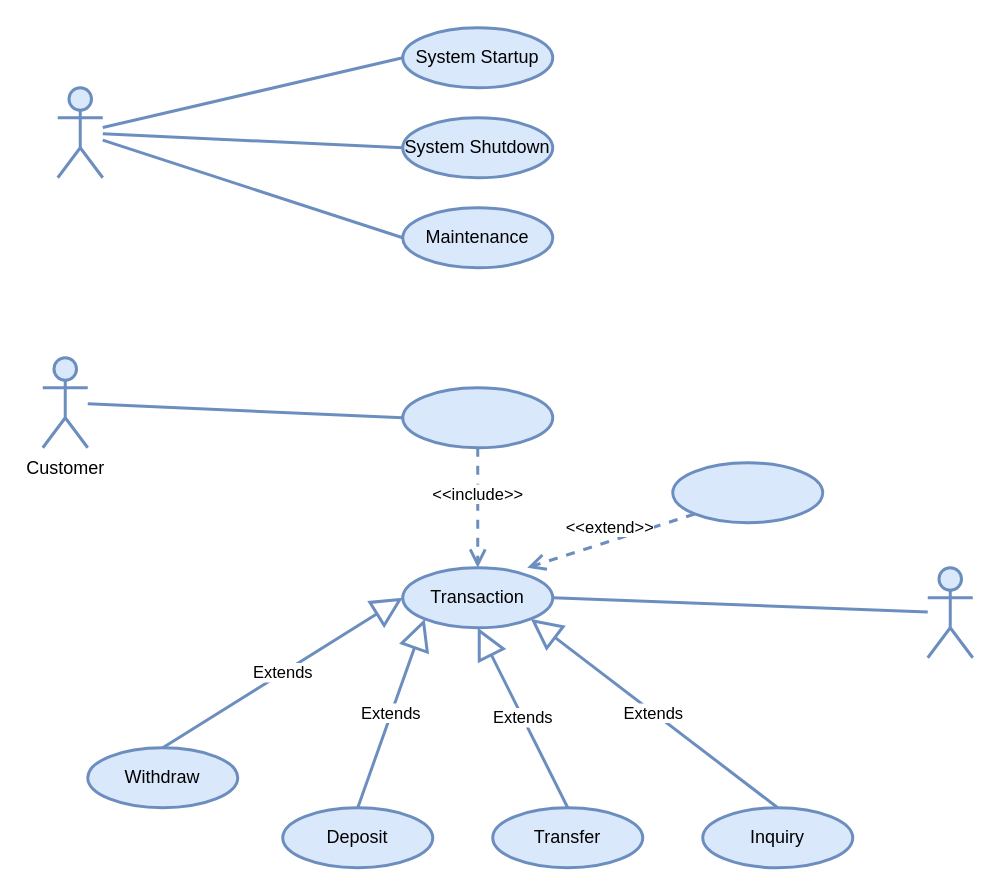
The diagram is 999 pixels wide and 894 high, and some of its shapes have lost their labels. The box of each missing label's shape, as (x1, y1, x2, y2) in pixels:
Bank: (926, 566, 974, 658)
Invalid PIN: (670, 460, 824, 524)
Operator: (56, 86, 104, 178)
Session: (400, 386, 554, 448)
